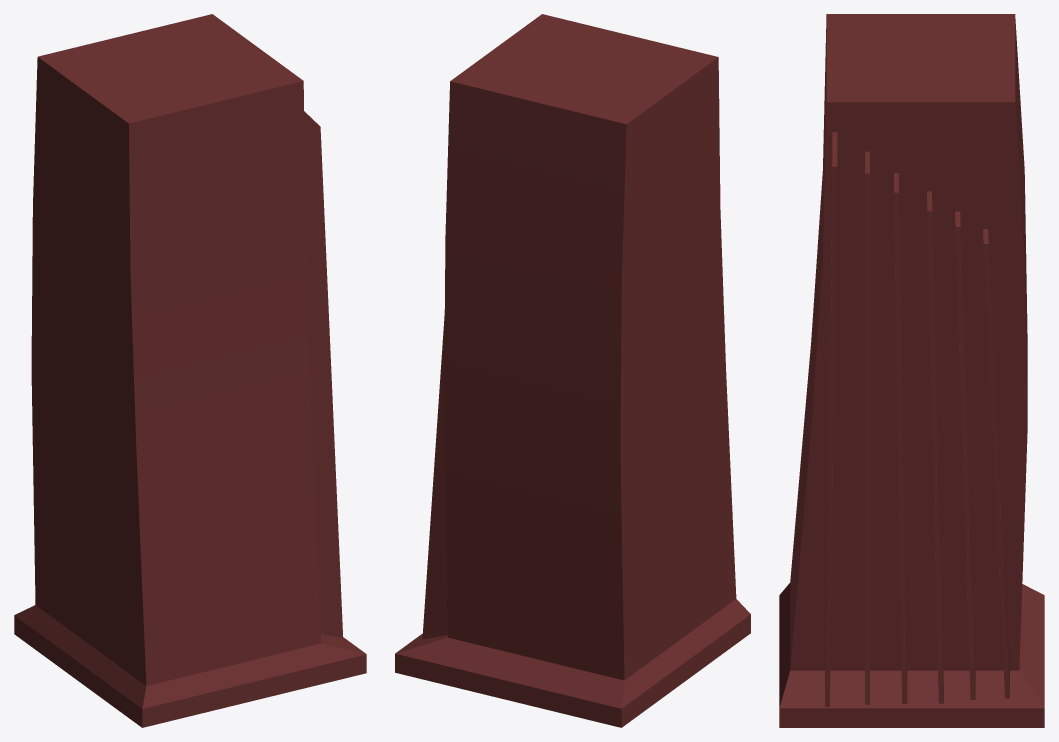
File: buinding4_new.fbx
The picture shows the model from 3 angles, left to right: view 1: azimuth 30°, elevation 25°; view 2: azimuth 150°, elevation 25°; view 3: azimuth 270°, elevation 25°; orthographic projection. The views are drawn at different scales.
Visible parts, largest first — view 1: polySurface34; view 2: polySurface34; view 3: polySurface34.
Part boxes in pixels (x1=…): polySurface34: x1=14, y1=14, x2=366, y2=727; polySurface34: x1=395, y1=14, x2=750, y2=727; polySurface34: x1=779, y1=14, x2=1044, y2=727.
Size of the model in its own units: 8.97 by 22.36 by 8.87.
